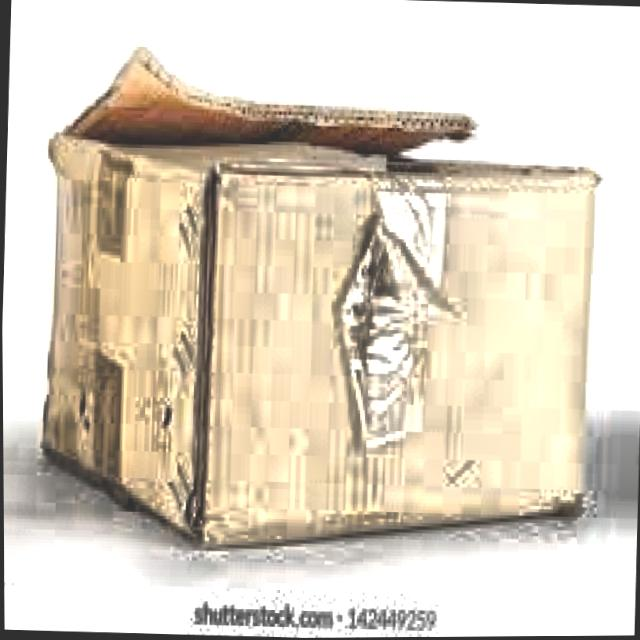Cardbox: (13, 19, 621, 568)
